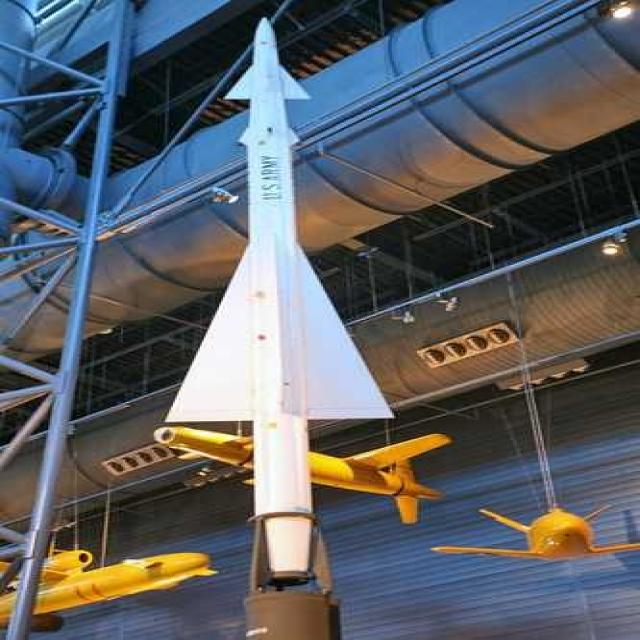missile: (166, 18, 390, 573)
